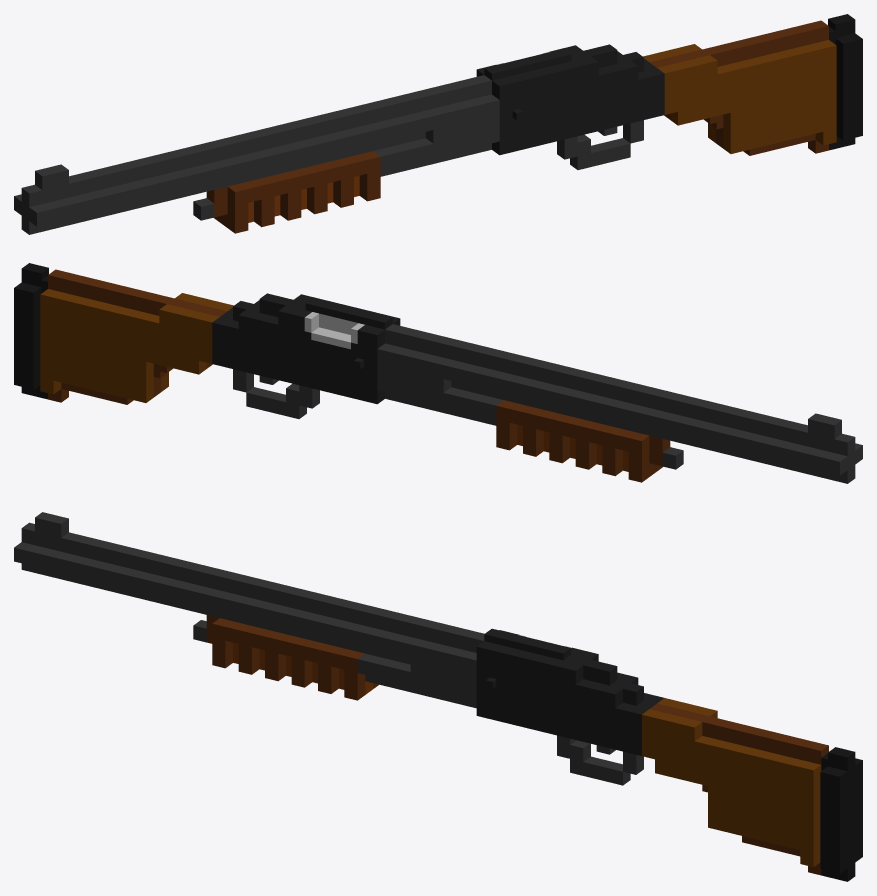
File: shootgun1.obj
3 renders of one model, top to bottom at view 1: azimuth 30°, elevation 25°; view 2: azimuth 150°, elevation 25°; view 3: azimuth 330°, elevation 25°, orthographic.
Size of the model in its own units: 12.5 by 2.4 by 0.8.
Materials: 1 (1 with a texture image).
